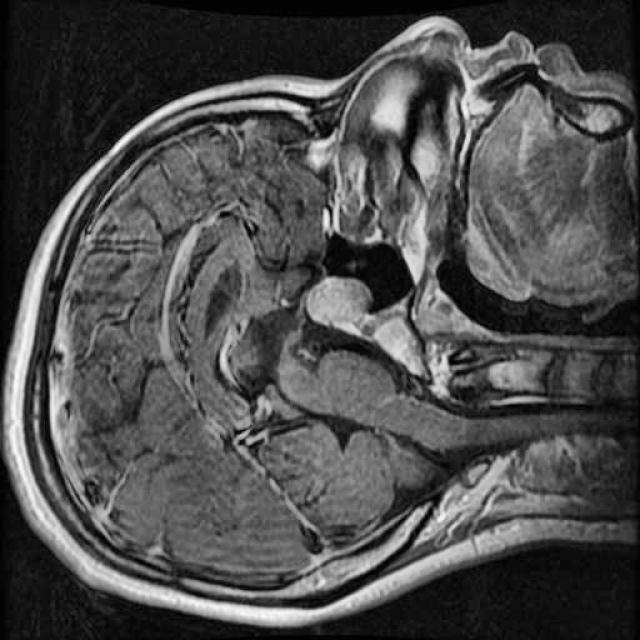Tumor: (290, 268, 380, 339)
